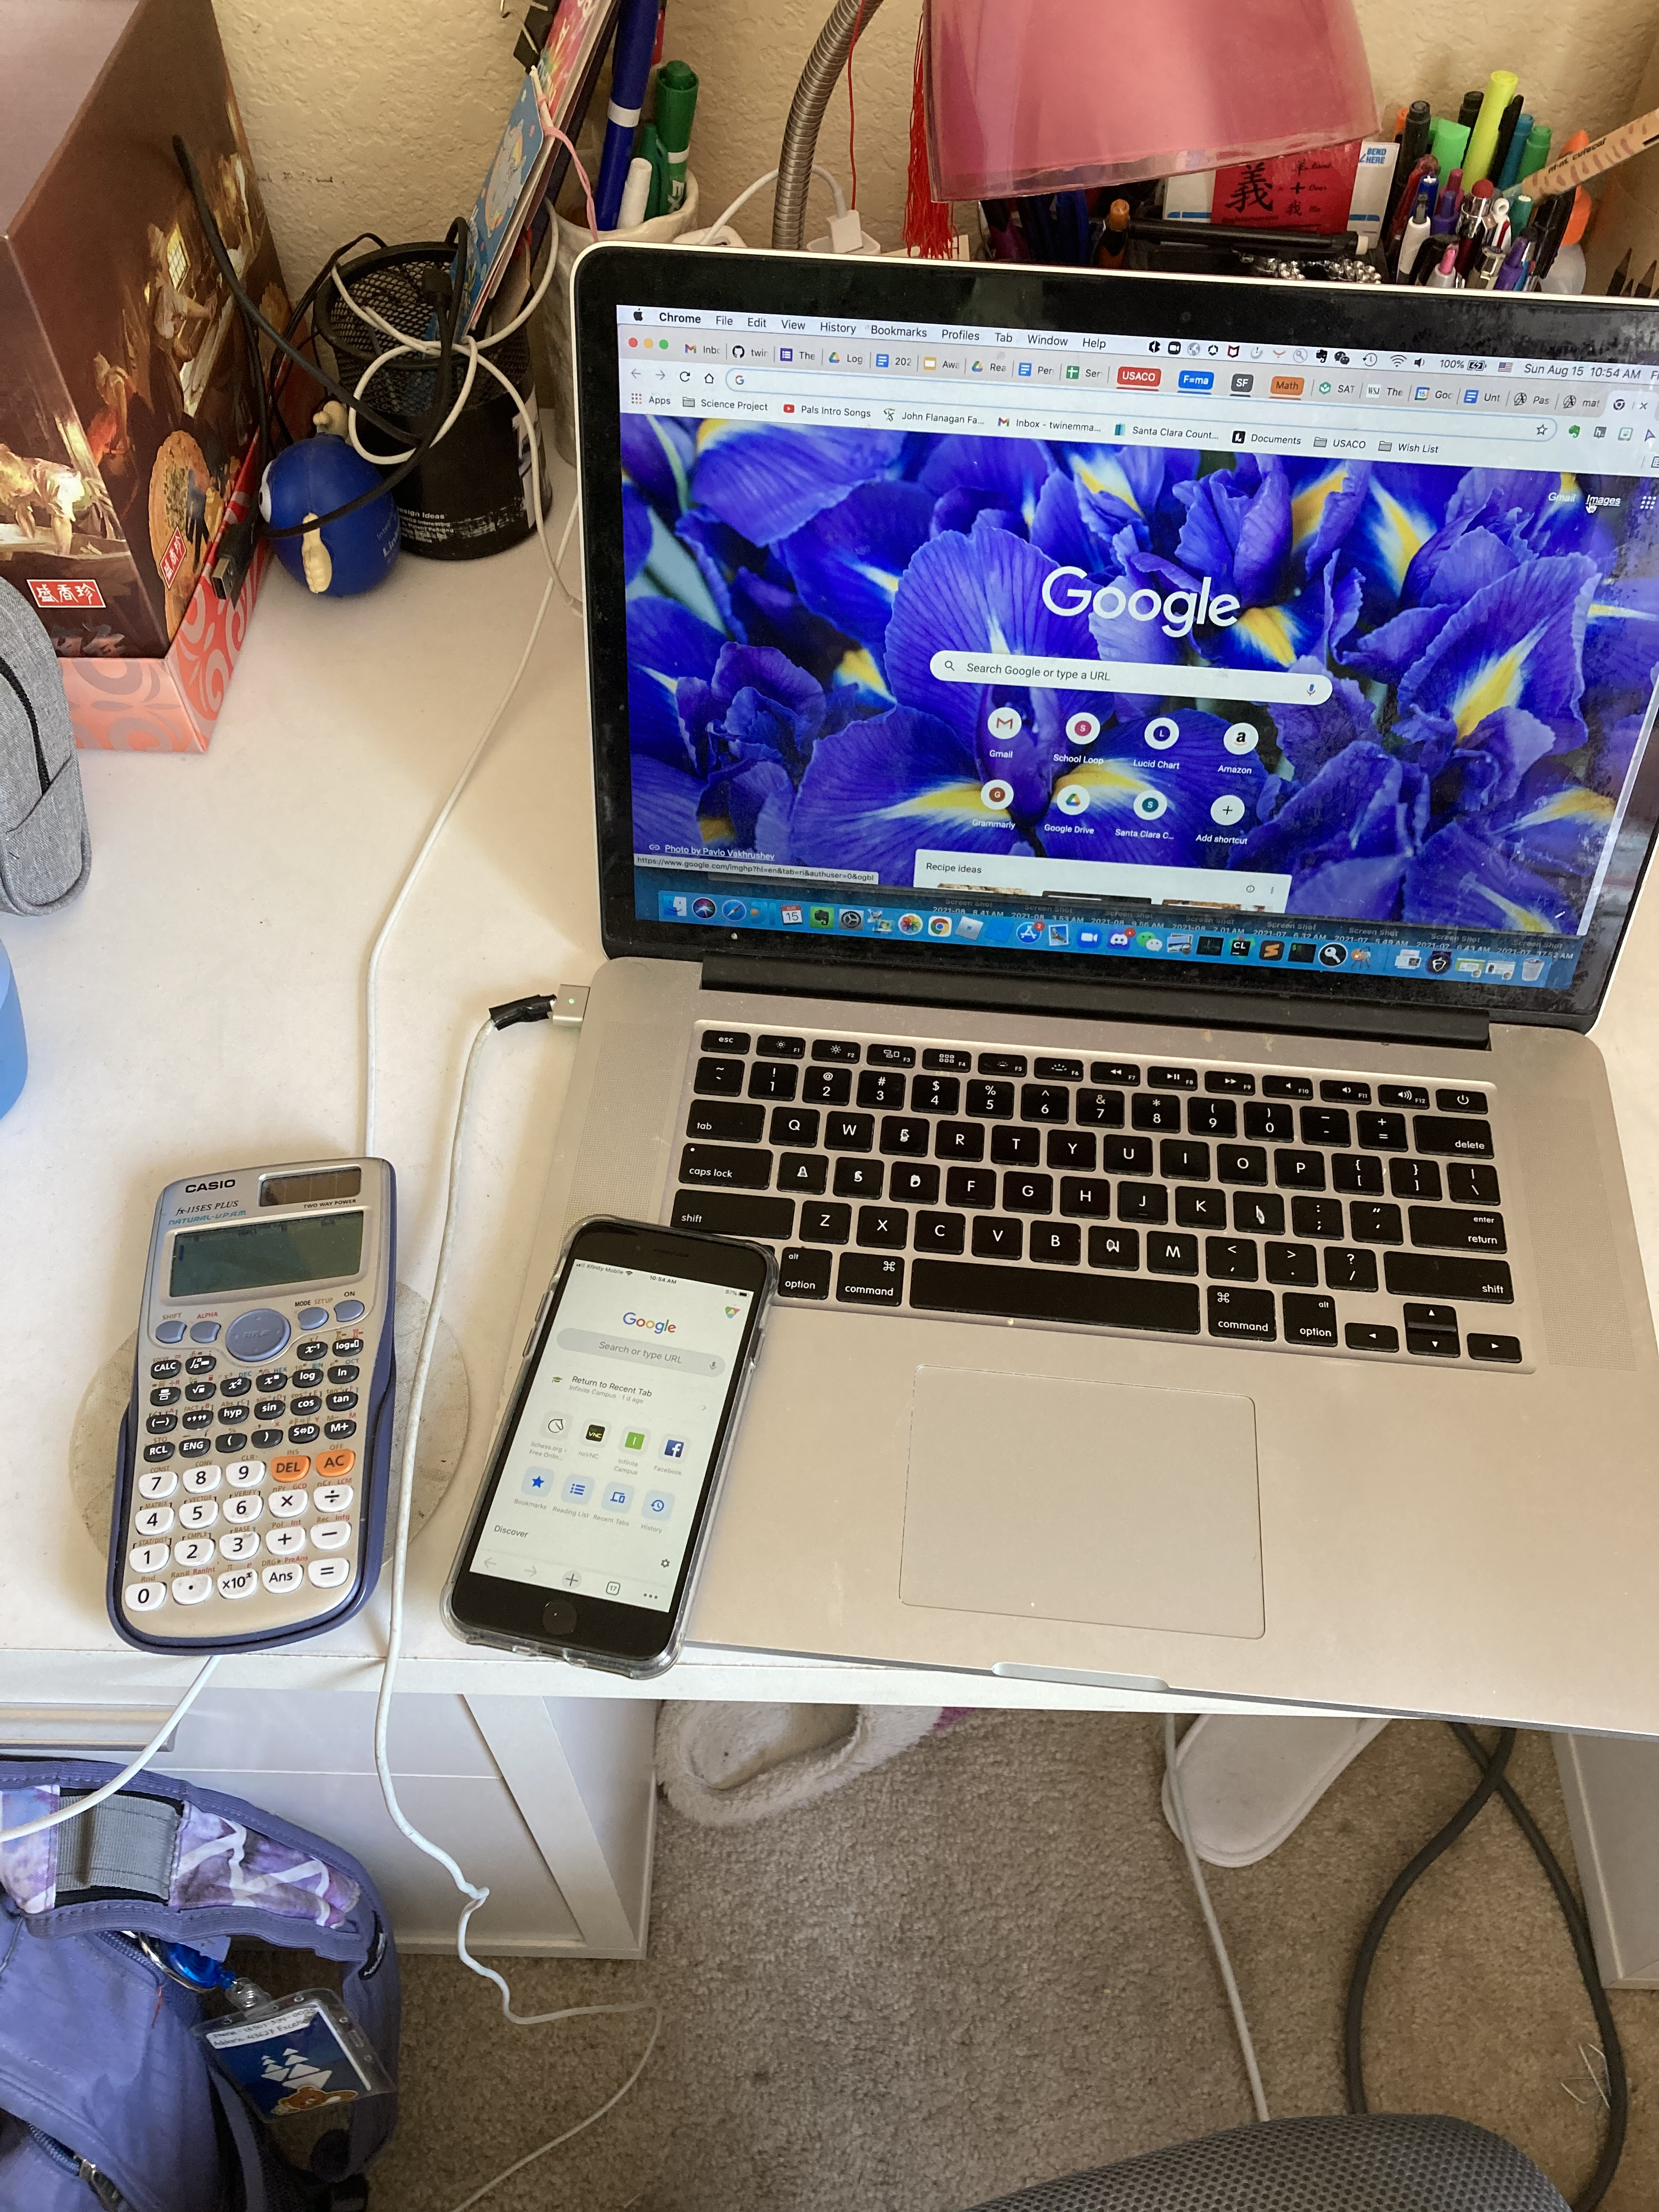Calculator: (145, 1155, 376, 1637)
Cell Phone: (451, 1217, 781, 1676)
